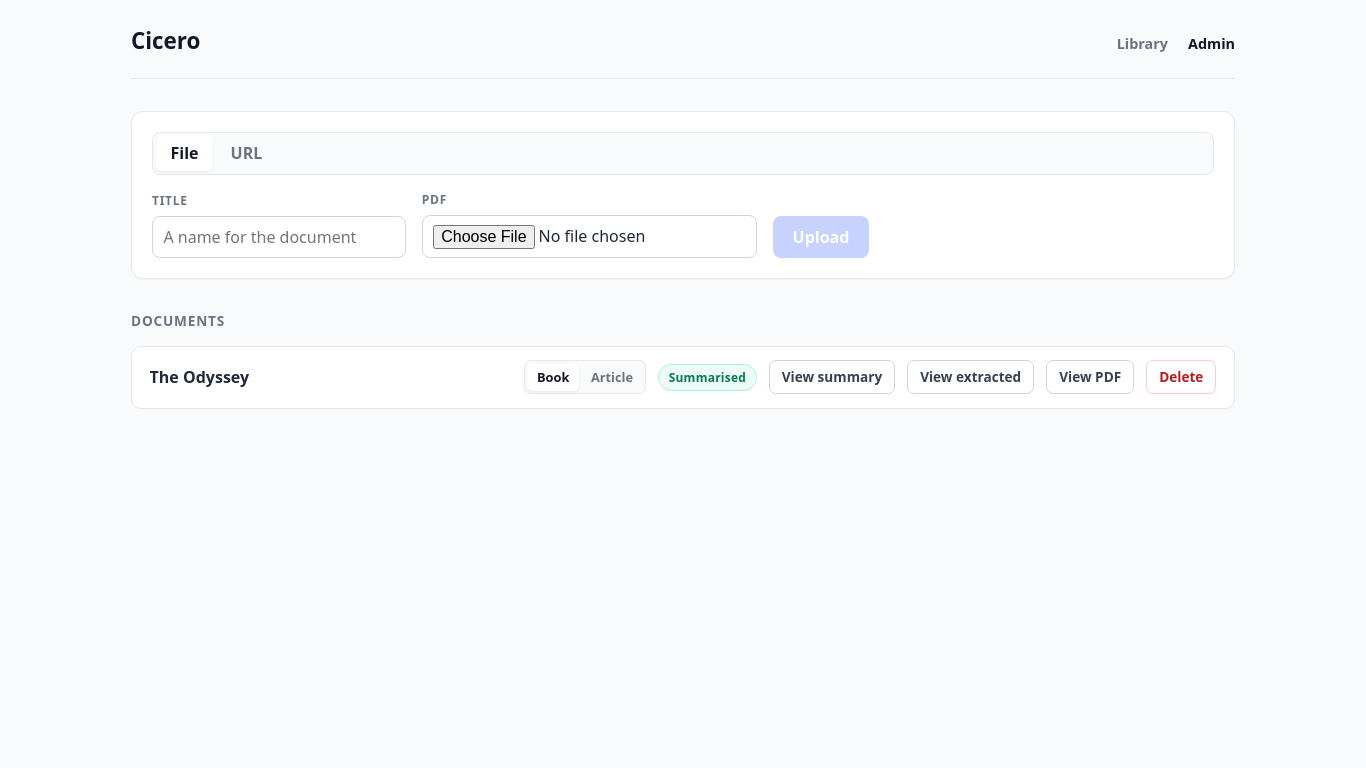
Test: AdminPage › renders the summary Markdown as formatted elements, not raw text
Expected: the text "The Odyssey" is shown, [150,366,249,388]
Click the button "View summary": (832, 377) [769,360,895,394]
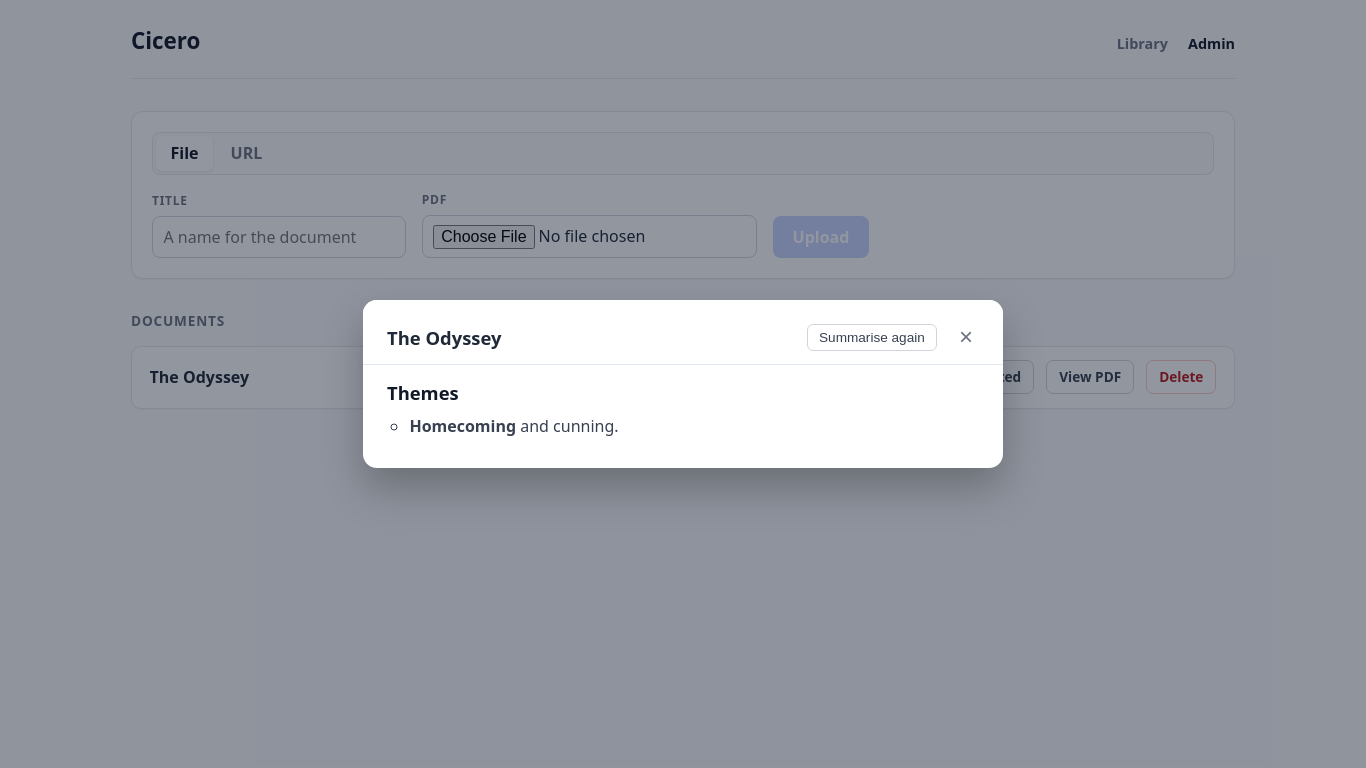
Expected: the heading "Themes" is shown, [387,380,459,405]
